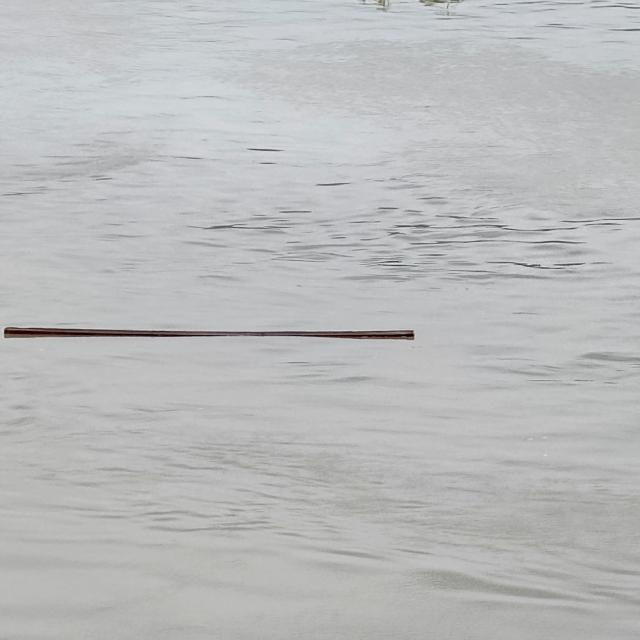Organic Debris: (0, 319, 429, 346)
